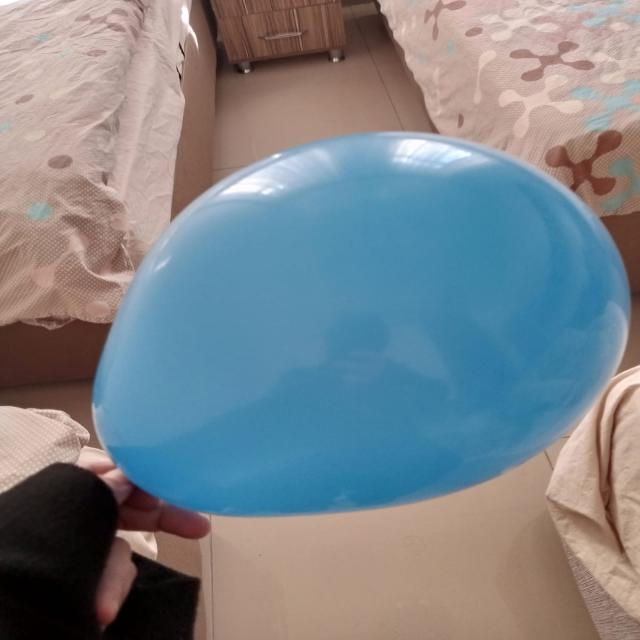balloon: (93, 132, 630, 516)
